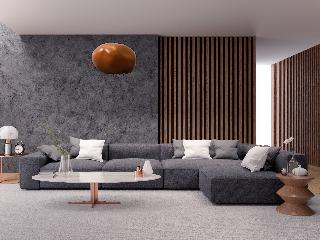potato: (88, 39, 140, 78)
